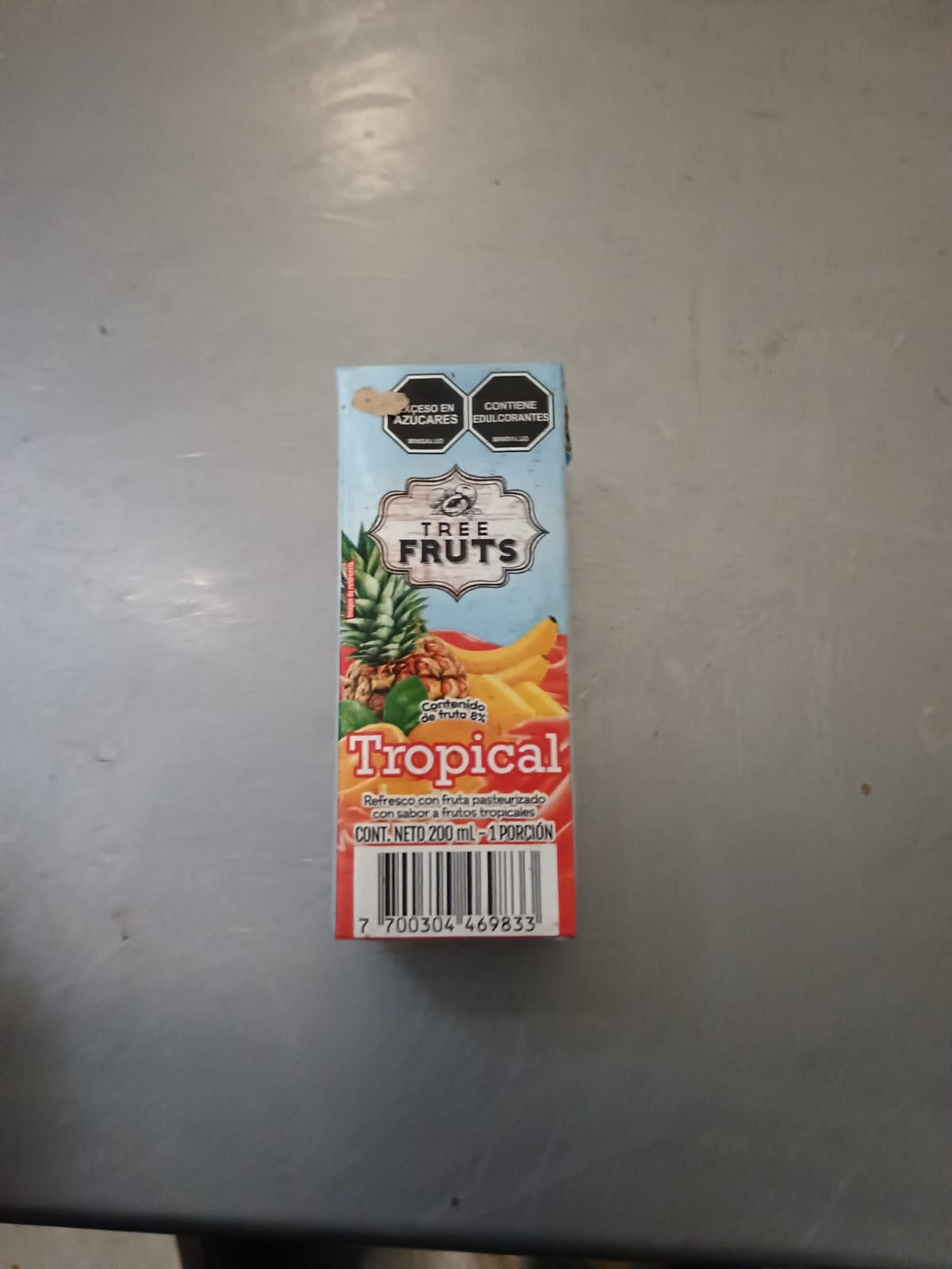Carton: (335, 365, 579, 940)
